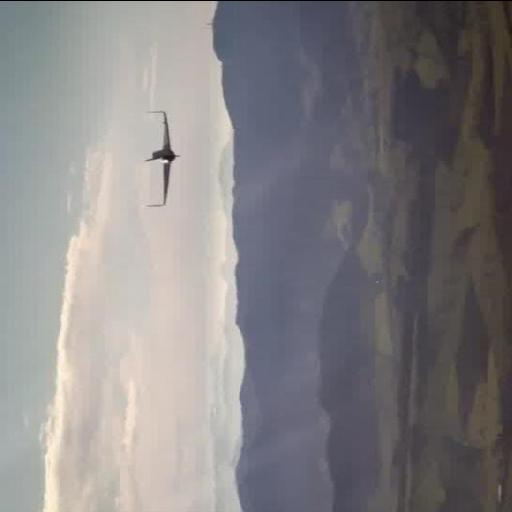uav: (136, 108, 188, 210)
